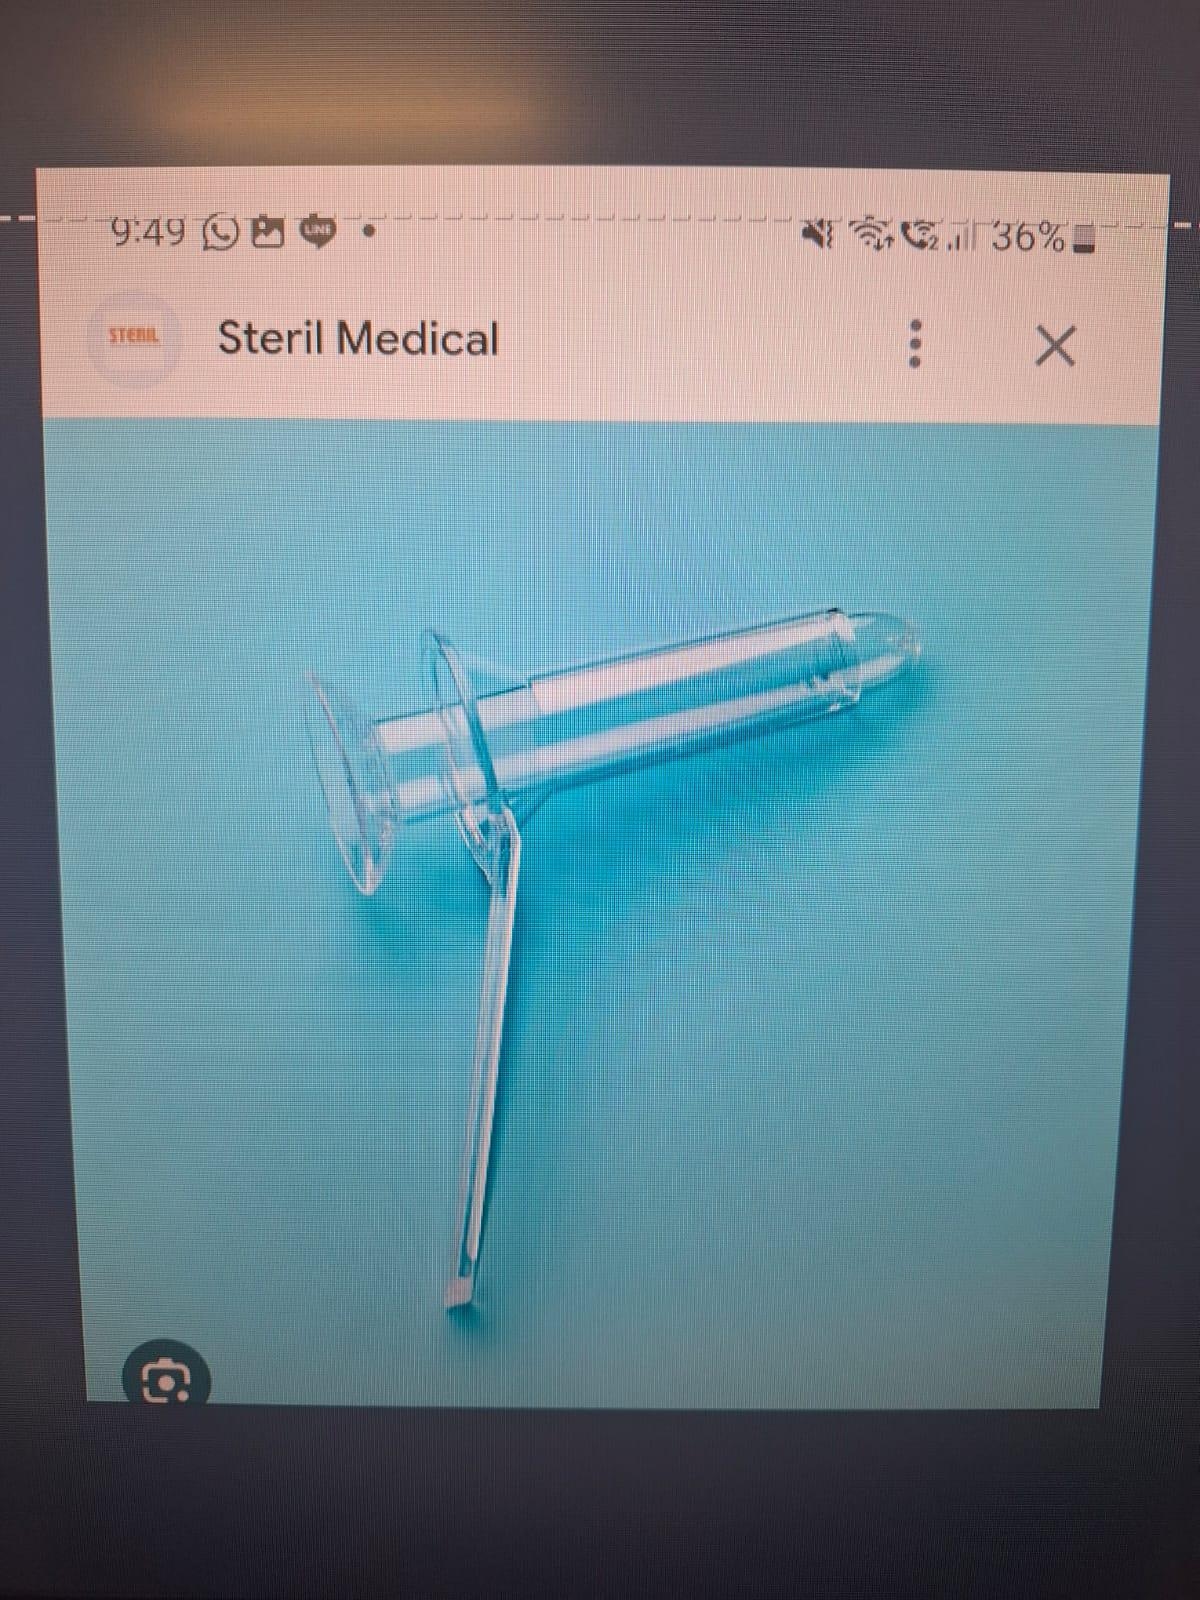Protoscope: (260, 567, 935, 1351)
